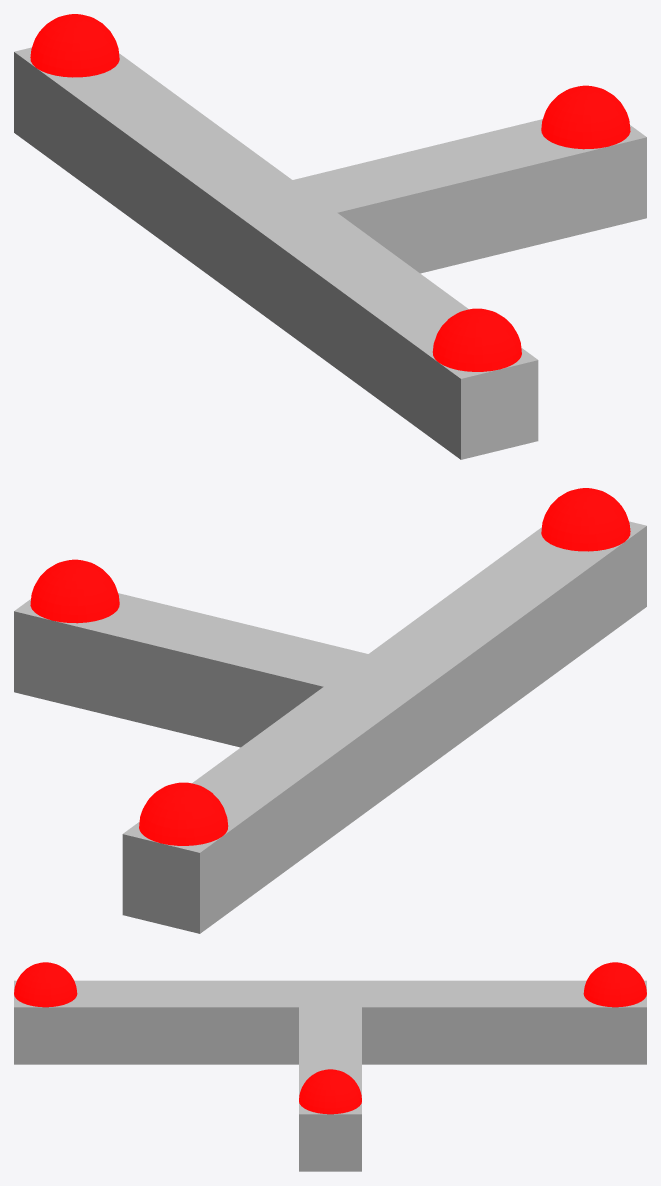
File: ir_marker_0.dae
3 renders of one model, top to bottom at view 1: azimuth 30°, elevation 25°; view 2: azimuth 150°, elevation 25°; view 3: azimuth 270°, elevation 25°, orthographic. The views are drawn at different scales.
Visible parts, largest first — view 1: bar_lr, bar_fb, marker_l, marker_r, marker_f; view 2: bar_lr, bar_fb, marker_l, marker_r, marker_f; view 3: bar_lr, bar_fb, marker_l, marker_r, marker_f.
Part boxes in pixels (x1,y1,x2,y2): bar_lr: [14, 47, 538, 459]; bar_fb: [293, 119, 646, 273]; marker_l: [30, 14, 119, 77]; marker_r: [432, 308, 521, 371]; marker_f: [541, 85, 630, 149]; bar_lr: [122, 521, 646, 933]; bar_fb: [14, 593, 367, 747]; marker_l: [139, 782, 228, 845]; marker_r: [541, 488, 630, 551]; marker_f: [30, 559, 119, 623]; bar_lr: [14, 980, 646, 1064]; bar_fb: [299, 1007, 361, 1171]; marker_l: [583, 962, 646, 1007]; marker_r: [14, 962, 77, 1007]; marker_f: [299, 1069, 361, 1114].
Size of the model in its own units: 0.05 by 0.1 by 0.015.
